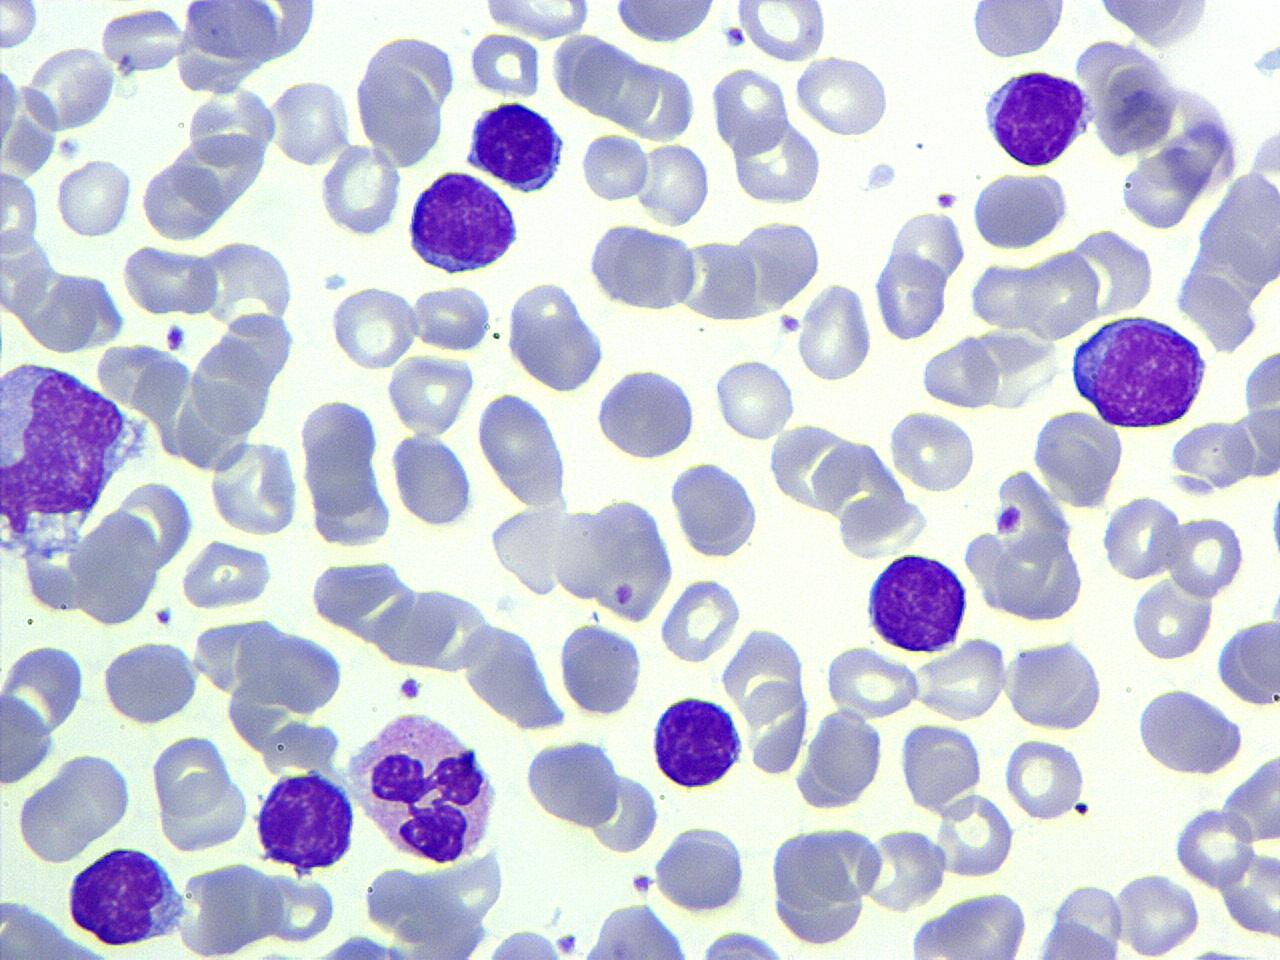Platelets: (864, 159, 900, 193), (1250, 42, 1280, 81), (1187, 942, 1249, 960), (1269, 485, 1280, 565), (995, 504, 1022, 536), (165, 322, 191, 353), (629, 870, 658, 896), (397, 674, 422, 702), (554, 930, 580, 956), (776, 313, 802, 337), (722, 25, 748, 49), (322, 270, 350, 292), (933, 191, 960, 211), (1268, 589, 1280, 627)
RBC: (958, 462, 1092, 627), (766, 822, 876, 950), (13, 750, 134, 866), (506, 280, 608, 392), (475, 389, 570, 508), (590, 494, 676, 624), (150, 742, 244, 854), (1029, 408, 1127, 510), (790, 706, 886, 810), (522, 734, 624, 830), (1006, 636, 1106, 732), (596, 221, 698, 315), (177, 1, 320, 67), (207, 438, 302, 537), (98, 638, 202, 726), (720, 622, 806, 726), (652, 823, 750, 914), (1092, 57, 1182, 156), (0, 639, 88, 740), (556, 618, 644, 718), (728, 116, 824, 207), (306, 451, 394, 550), (906, 890, 1030, 960), (968, 169, 1072, 252), (390, 430, 476, 530), (792, 54, 891, 139), (914, 636, 1009, 722), (656, 574, 744, 666), (318, 142, 402, 238), (796, 280, 874, 383), (886, 406, 977, 494), (25, 43, 116, 130), (328, 284, 419, 371), (896, 720, 982, 812), (860, 826, 948, 914), (1114, 870, 1202, 957), (117, 242, 219, 317), (488, 504, 570, 596), (270, 76, 352, 168), (870, 248, 950, 342), (384, 352, 474, 435), (932, 790, 1014, 880), (712, 356, 796, 443), (824, 642, 920, 718), (710, 63, 788, 156), (1127, 577, 1213, 661), (1171, 804, 1255, 888), (1101, 493, 1181, 581), (179, 538, 276, 610), (1003, 735, 1085, 820), (745, 676, 811, 778), (1166, 512, 1244, 598), (552, 506, 620, 604), (637, 139, 711, 228), (918, 334, 1002, 411), (54, 156, 131, 240), (966, 0, 1068, 63), (1215, 614, 1280, 710), (257, 870, 339, 946), (97, 7, 187, 76), (590, 770, 660, 856), (1219, 843, 1280, 941), (411, 283, 493, 354), (734, 0, 826, 63), (578, 130, 651, 204), (1, 688, 55, 788), (610, 0, 722, 48), (467, 30, 540, 100), (1241, 344, 1280, 468), (479, 0, 594, 38), (1032, 919, 1126, 960), (0, 169, 41, 259), (687, 926, 795, 958), (0, 52, 21, 162), (0, 0, 41, 50)
WBC: (0, 353, 194, 634), (343, 705, 504, 869), (960, 464, 1092, 626), (137, 110, 277, 243), (1070, 312, 1210, 430), (352, 24, 456, 170), (301, 400, 399, 550), (15, 750, 138, 867), (64, 842, 193, 952), (766, 824, 870, 950), (406, 168, 524, 278), (980, 64, 1094, 170), (250, 767, 361, 875), (862, 549, 972, 656), (173, 860, 293, 958), (504, 278, 606, 389), (476, 387, 570, 507), (1133, 684, 1247, 778), (1007, 632, 1109, 734), (594, 364, 700, 462), (1030, 406, 1130, 508), (466, 97, 571, 194), (648, 692, 748, 792), (668, 456, 762, 562), (522, 733, 621, 833), (794, 709, 888, 812), (3, 898, 158, 960), (208, 440, 303, 540), (97, 637, 202, 727), (177, 1, 318, 68), (652, 825, 754, 917), (557, 618, 644, 722), (968, 167, 1073, 253), (908, 888, 1032, 960), (321, 139, 408, 238), (394, 428, 476, 532), (730, 118, 826, 206), (157, 768, 252, 854), (184, 534, 281, 613), (872, 250, 952, 343), (572, 900, 698, 959), (1090, 0, 1218, 50), (966, 1, 1068, 61), (1215, 614, 1280, 708), (0, 687, 56, 789), (607, 0, 723, 46), (1243, 333, 1280, 476), (686, 925, 796, 959)
